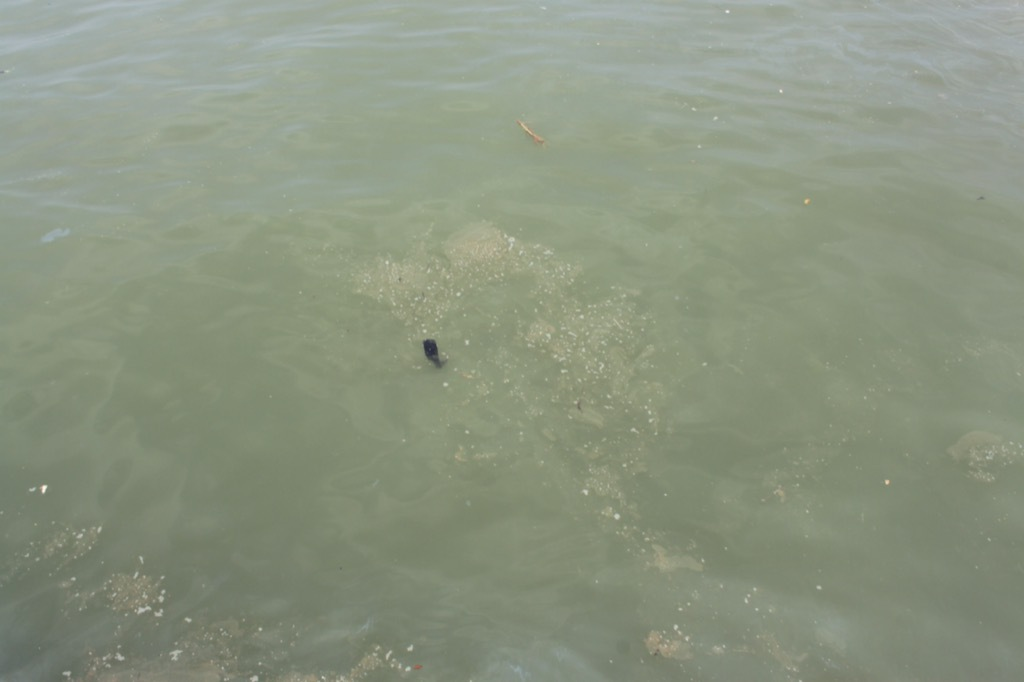organic: (509, 111, 550, 152)
plastic: (406, 330, 463, 381)
